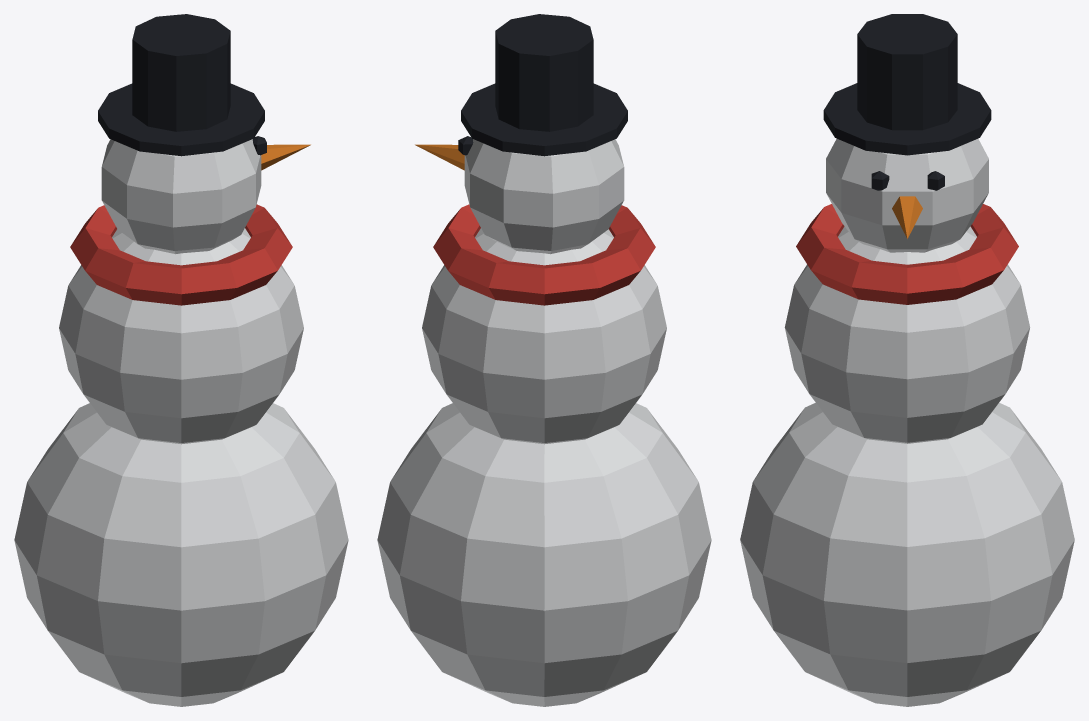
File: f-snowman.glb
The picture shows the model from 3 angles, left to right: view 1: azimuth 30°, elevation 25°; view 2: azimuth 150°, elevation 25°; view 3: azimuth 270°, elevation 25°; orthographic projection.
Parts seen in each view (by area): view 1: f-snowman; view 2: f-snowman; view 3: f-snowman.
Boxes of the visible parts, left/top/right/bottom form: f-snowman: left=14, top=14, right=348, bottom=706; f-snowman: left=377, top=14, right=711, bottom=706; f-snowman: left=740, top=14, right=1074, bottom=706.
Bounding box in the file's own units: 0.6 × 1.3 × 0.6.
